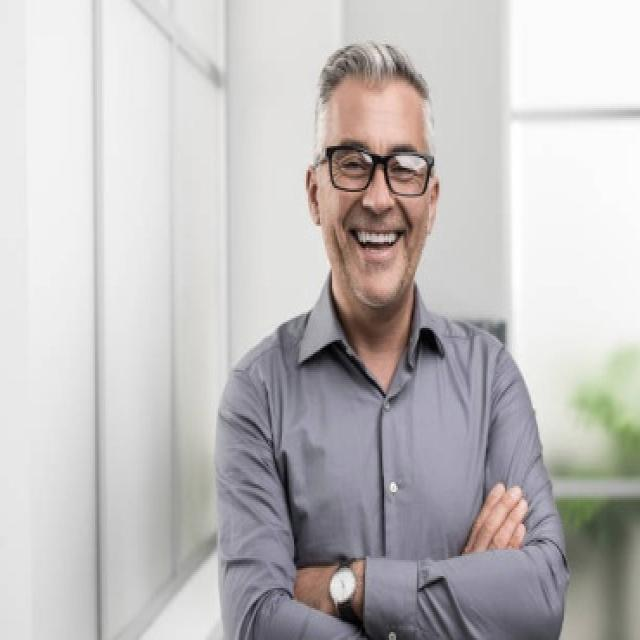adult: (216, 42, 566, 640)
